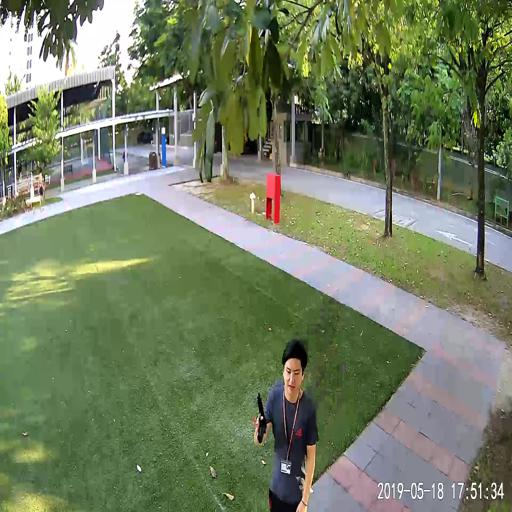pistol: (255, 390, 267, 444)
